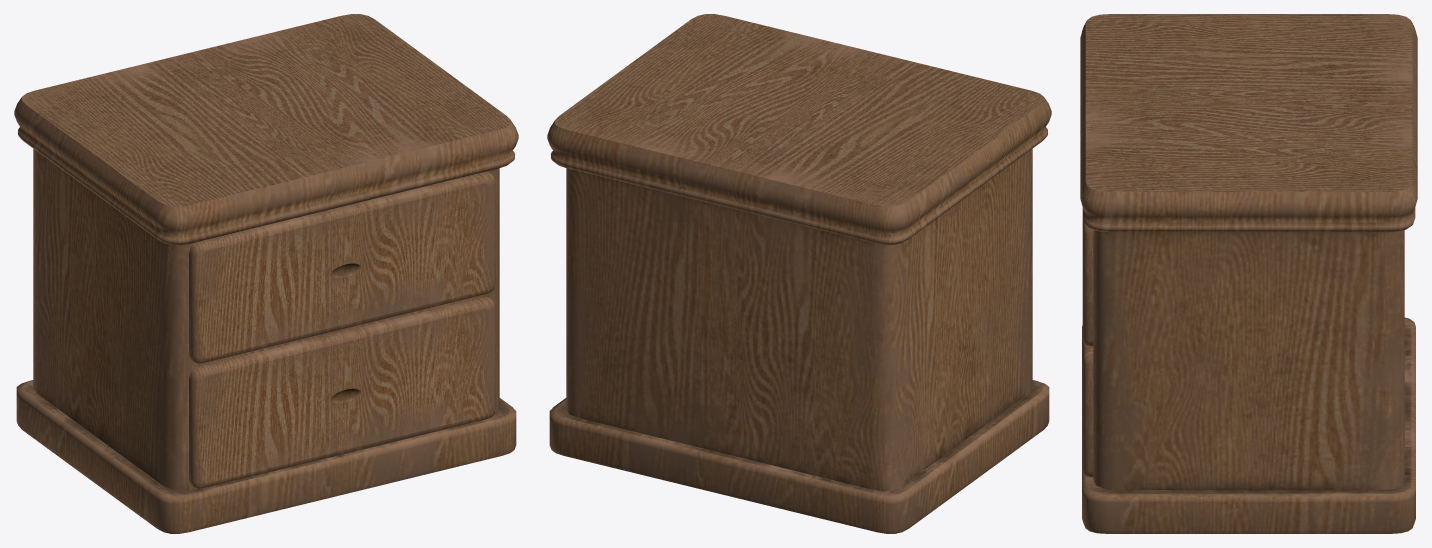
Rendered from side_table01.FBX.
3 renders of one model, left to right at view 1: azimuth 30°, elevation 25°; view 2: azimuth 150°, elevation 25°; view 3: azimuth 270°, elevation 25°, orthographic. The views are drawn at different scales.
Visible parts, largest first — view 1: Object002; view 2: Object002; view 3: Object002.
Boxes of the visible parts, bbox=[...] form: Object002: bbox=[14, 14, 518, 533]; Object002: bbox=[547, 14, 1051, 533]; Object002: bbox=[1080, 14, 1417, 533].
Bounding box in the file's own units: 0.5981 × 0.464 × 0.52.
Materials: 1 (1 with a texture image).
